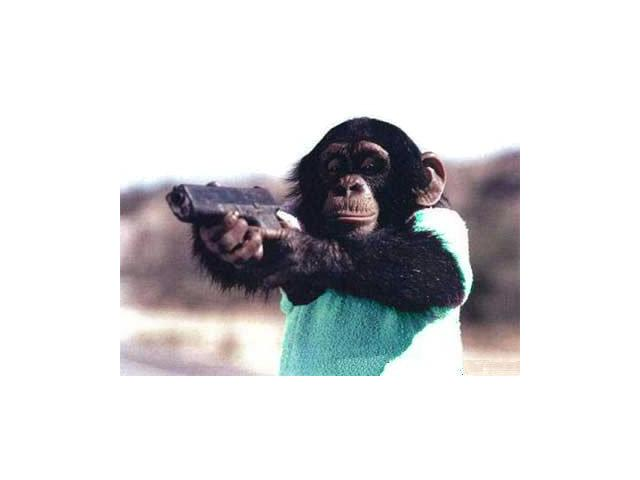pistol: (161, 175, 321, 309)
